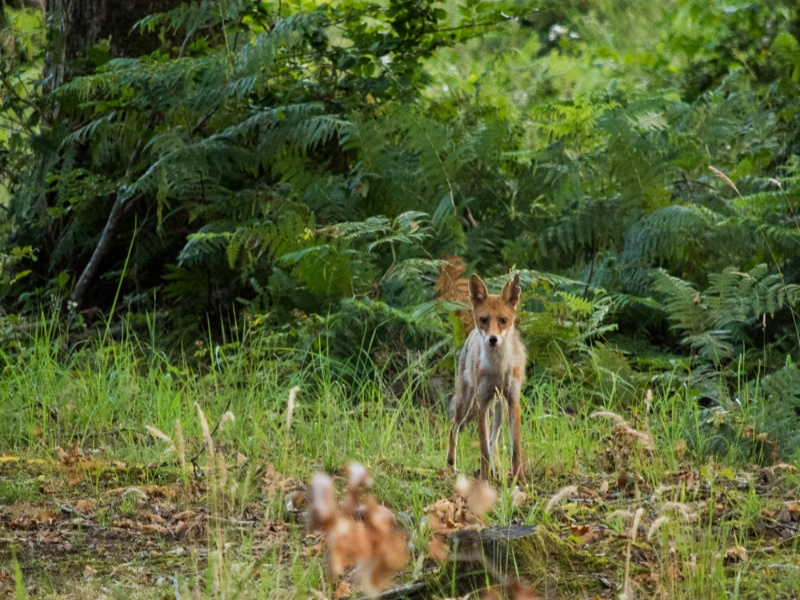fox: (445, 271, 536, 487)
